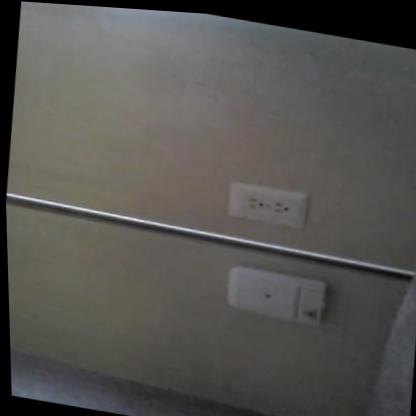OUTLET: (226, 180, 310, 229)
